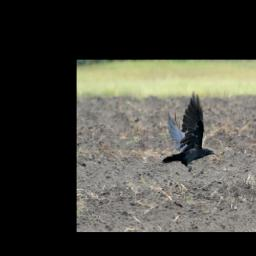Crow: (161, 90, 217, 174)
